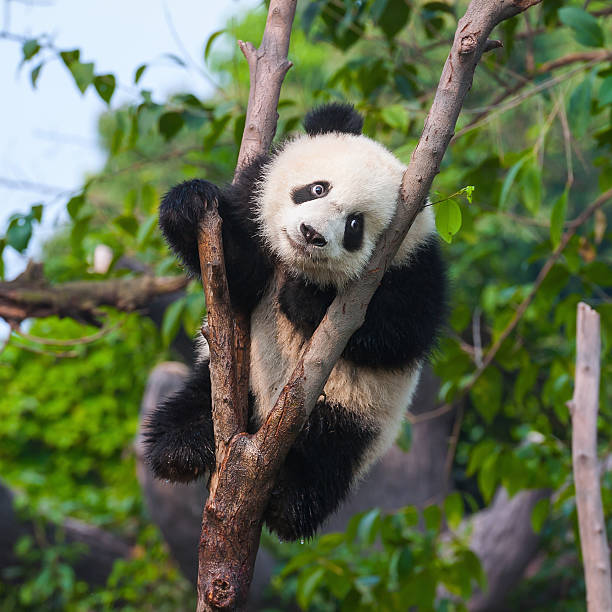panda: (242, 85, 488, 341)
